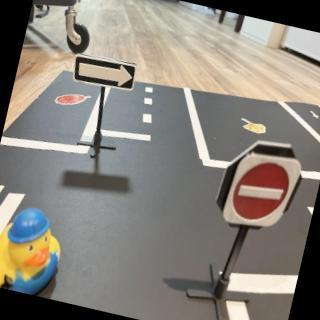duck_specialty: (1, 199, 72, 299)
sign_noentry: (222, 148, 307, 241)
sign_oneway_right: (69, 52, 141, 98)
